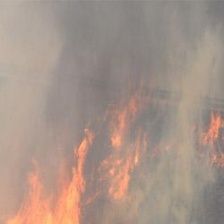fire: (9, 184, 80, 224), (110, 110, 133, 193)
smoke: (1, 8, 70, 170), (156, 41, 213, 208)
